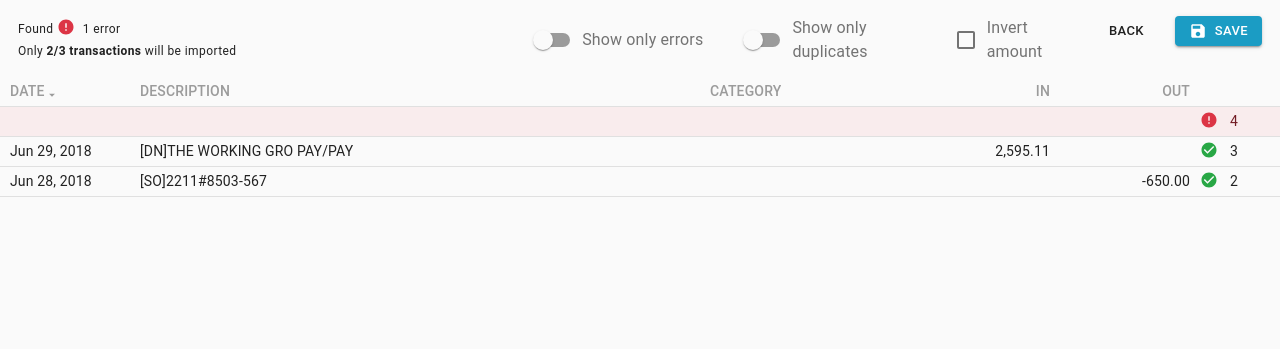
it: ImportedTransactions › renders correctly and opens error popup
Click the icon with test id "errorIconButton". click: coordinates (1209, 120)
box: [1200,112,1218,130]
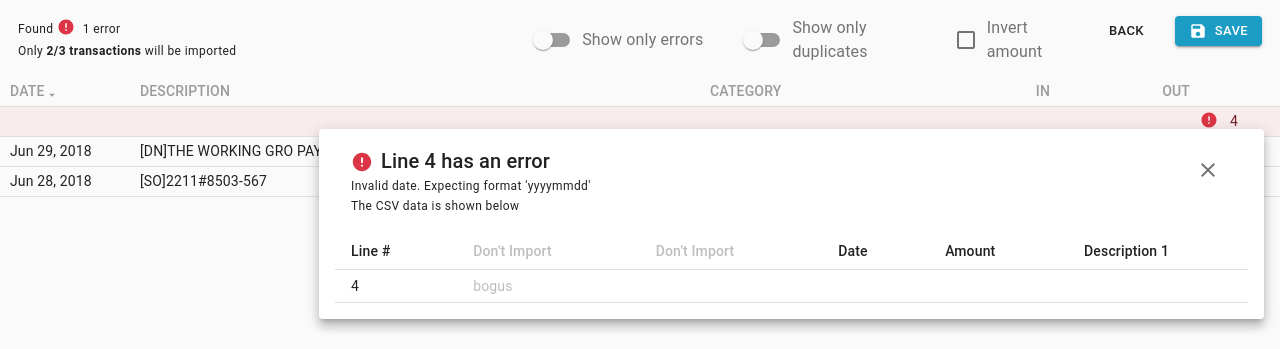
Click the button with test id "closeIconButton". click: coordinates (1208, 170)
box: [1184,145,1232,195]
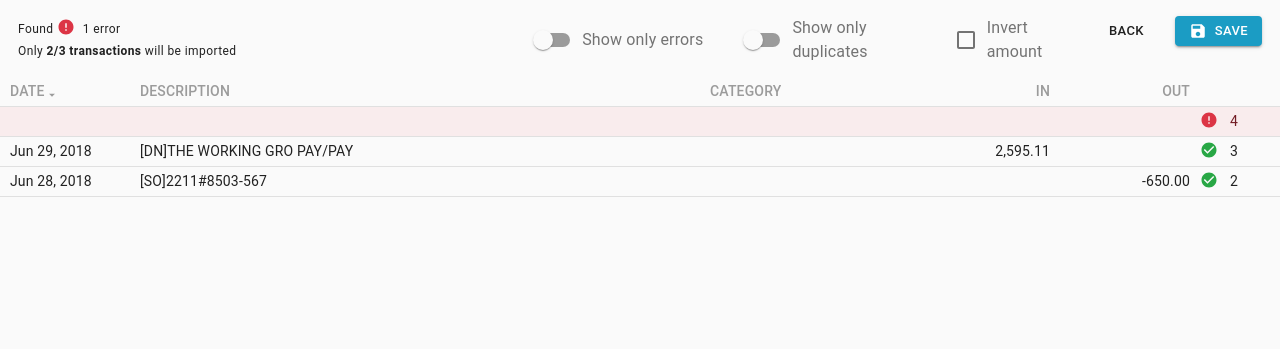
Check: the button with test id "closeIconButton" is gone
